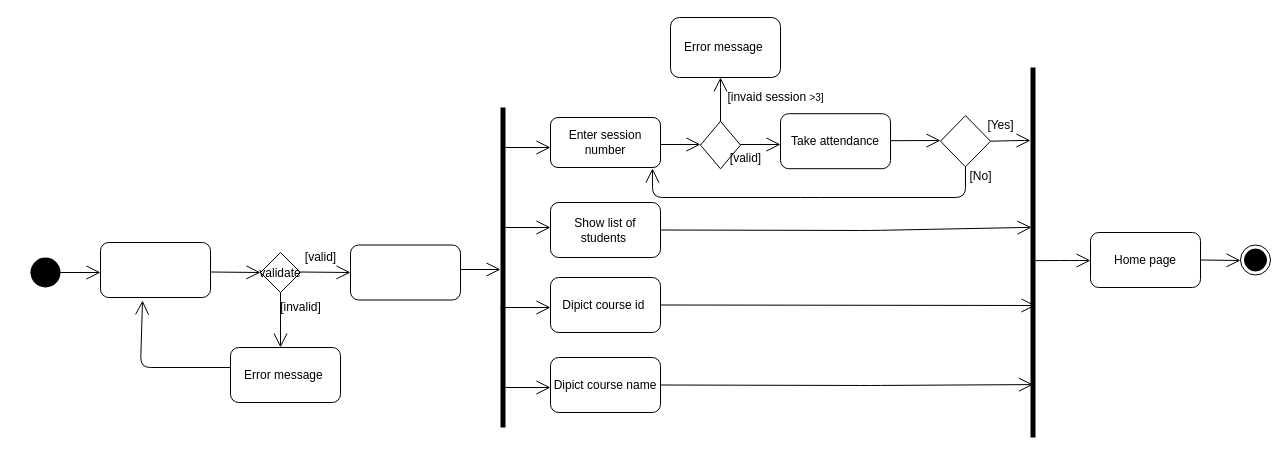
The diagram is 1288 pixels wide and 455 high, and some of its shapes have lost their labels. The centre of each missing label's shape, as x and y in pixels:
"check" goes at [720,144].
"Display Form" goes at [405,272].
"Enter username and password" goes at [155,270].
"save" goes at [965,141].
